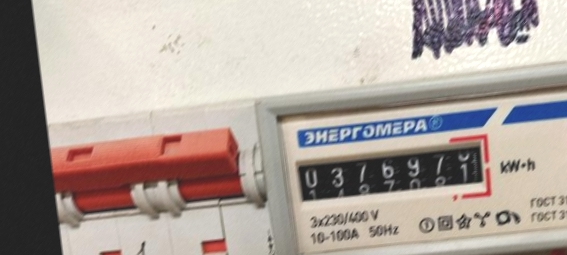0: (301, 165, 319, 188)
1: (457, 161, 471, 183)
3: (328, 164, 344, 189)
6: (379, 156, 394, 178)
7: (353, 158, 369, 183), (430, 151, 445, 175)
9: (404, 154, 420, 177)
screen: (287, 130, 497, 222)
